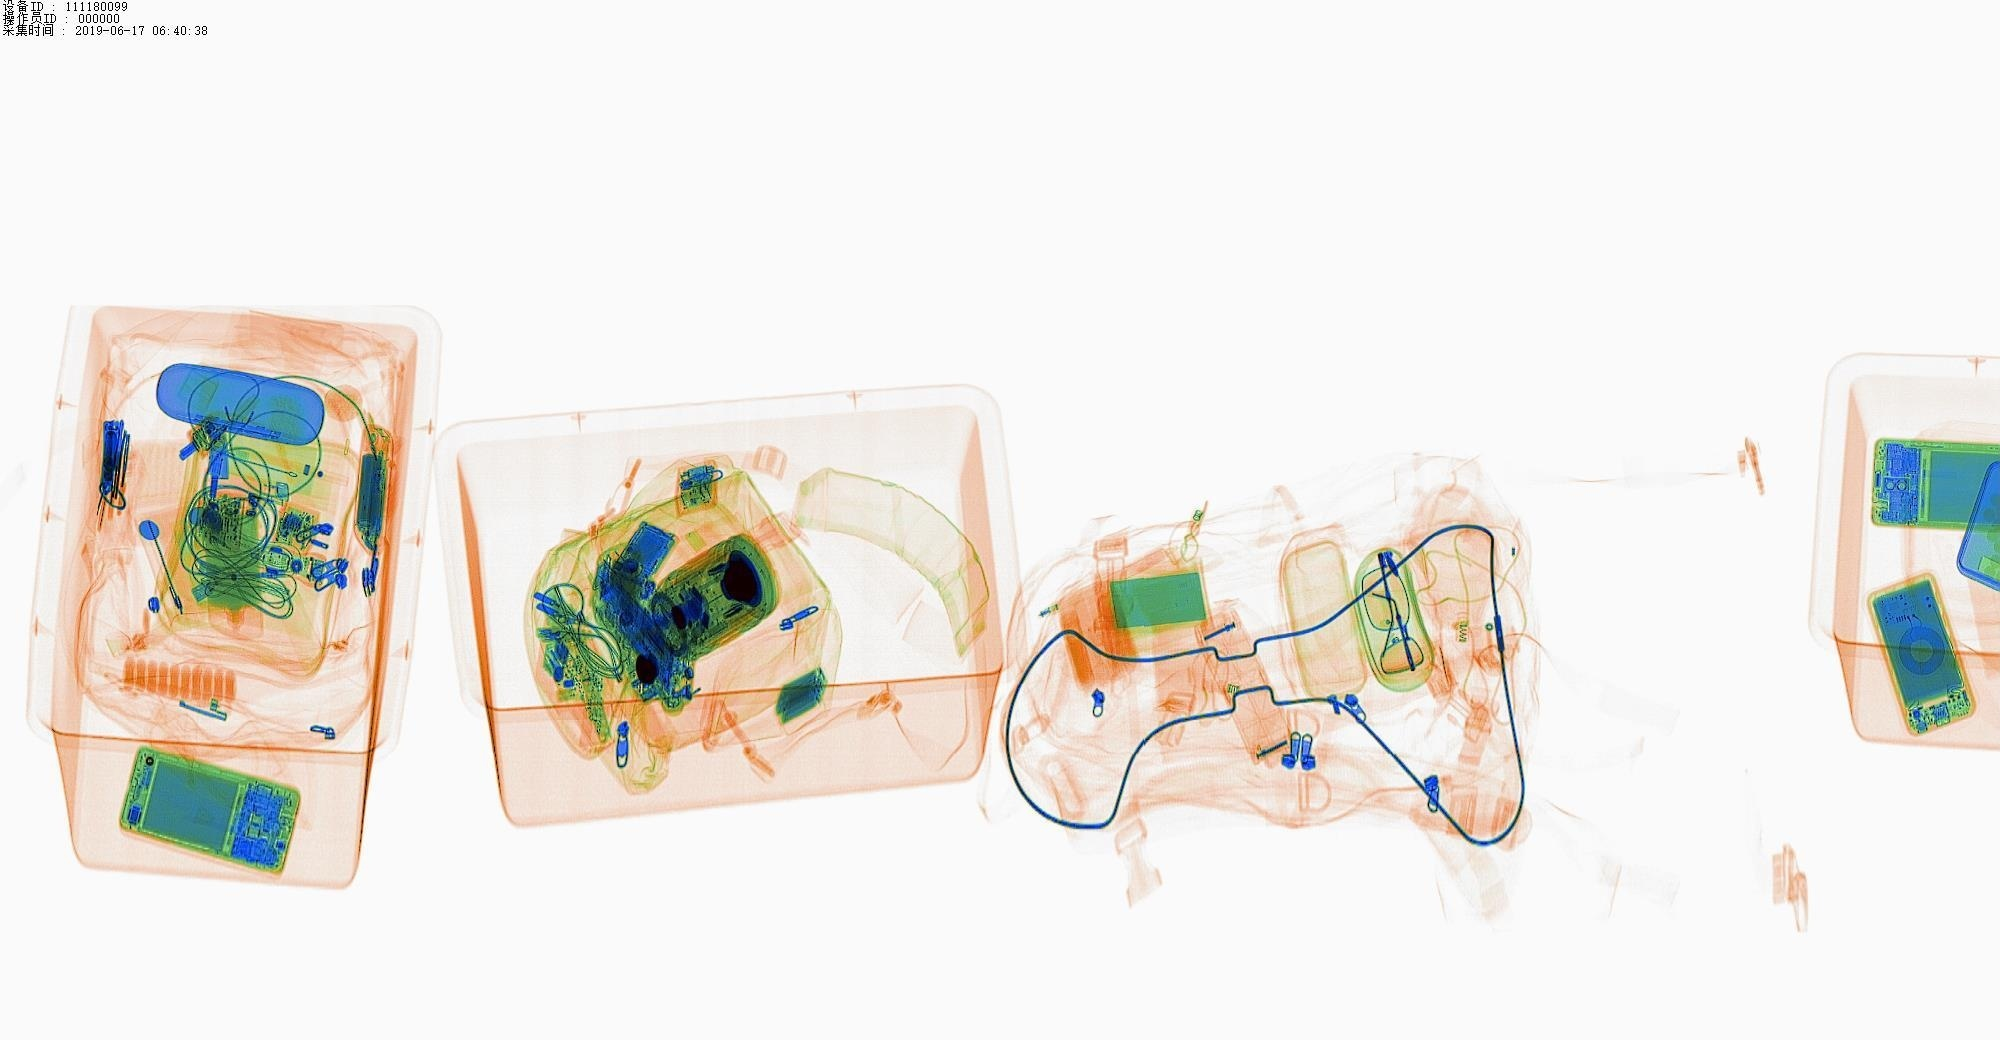NonmetallicFire: (189, 467, 313, 513)
